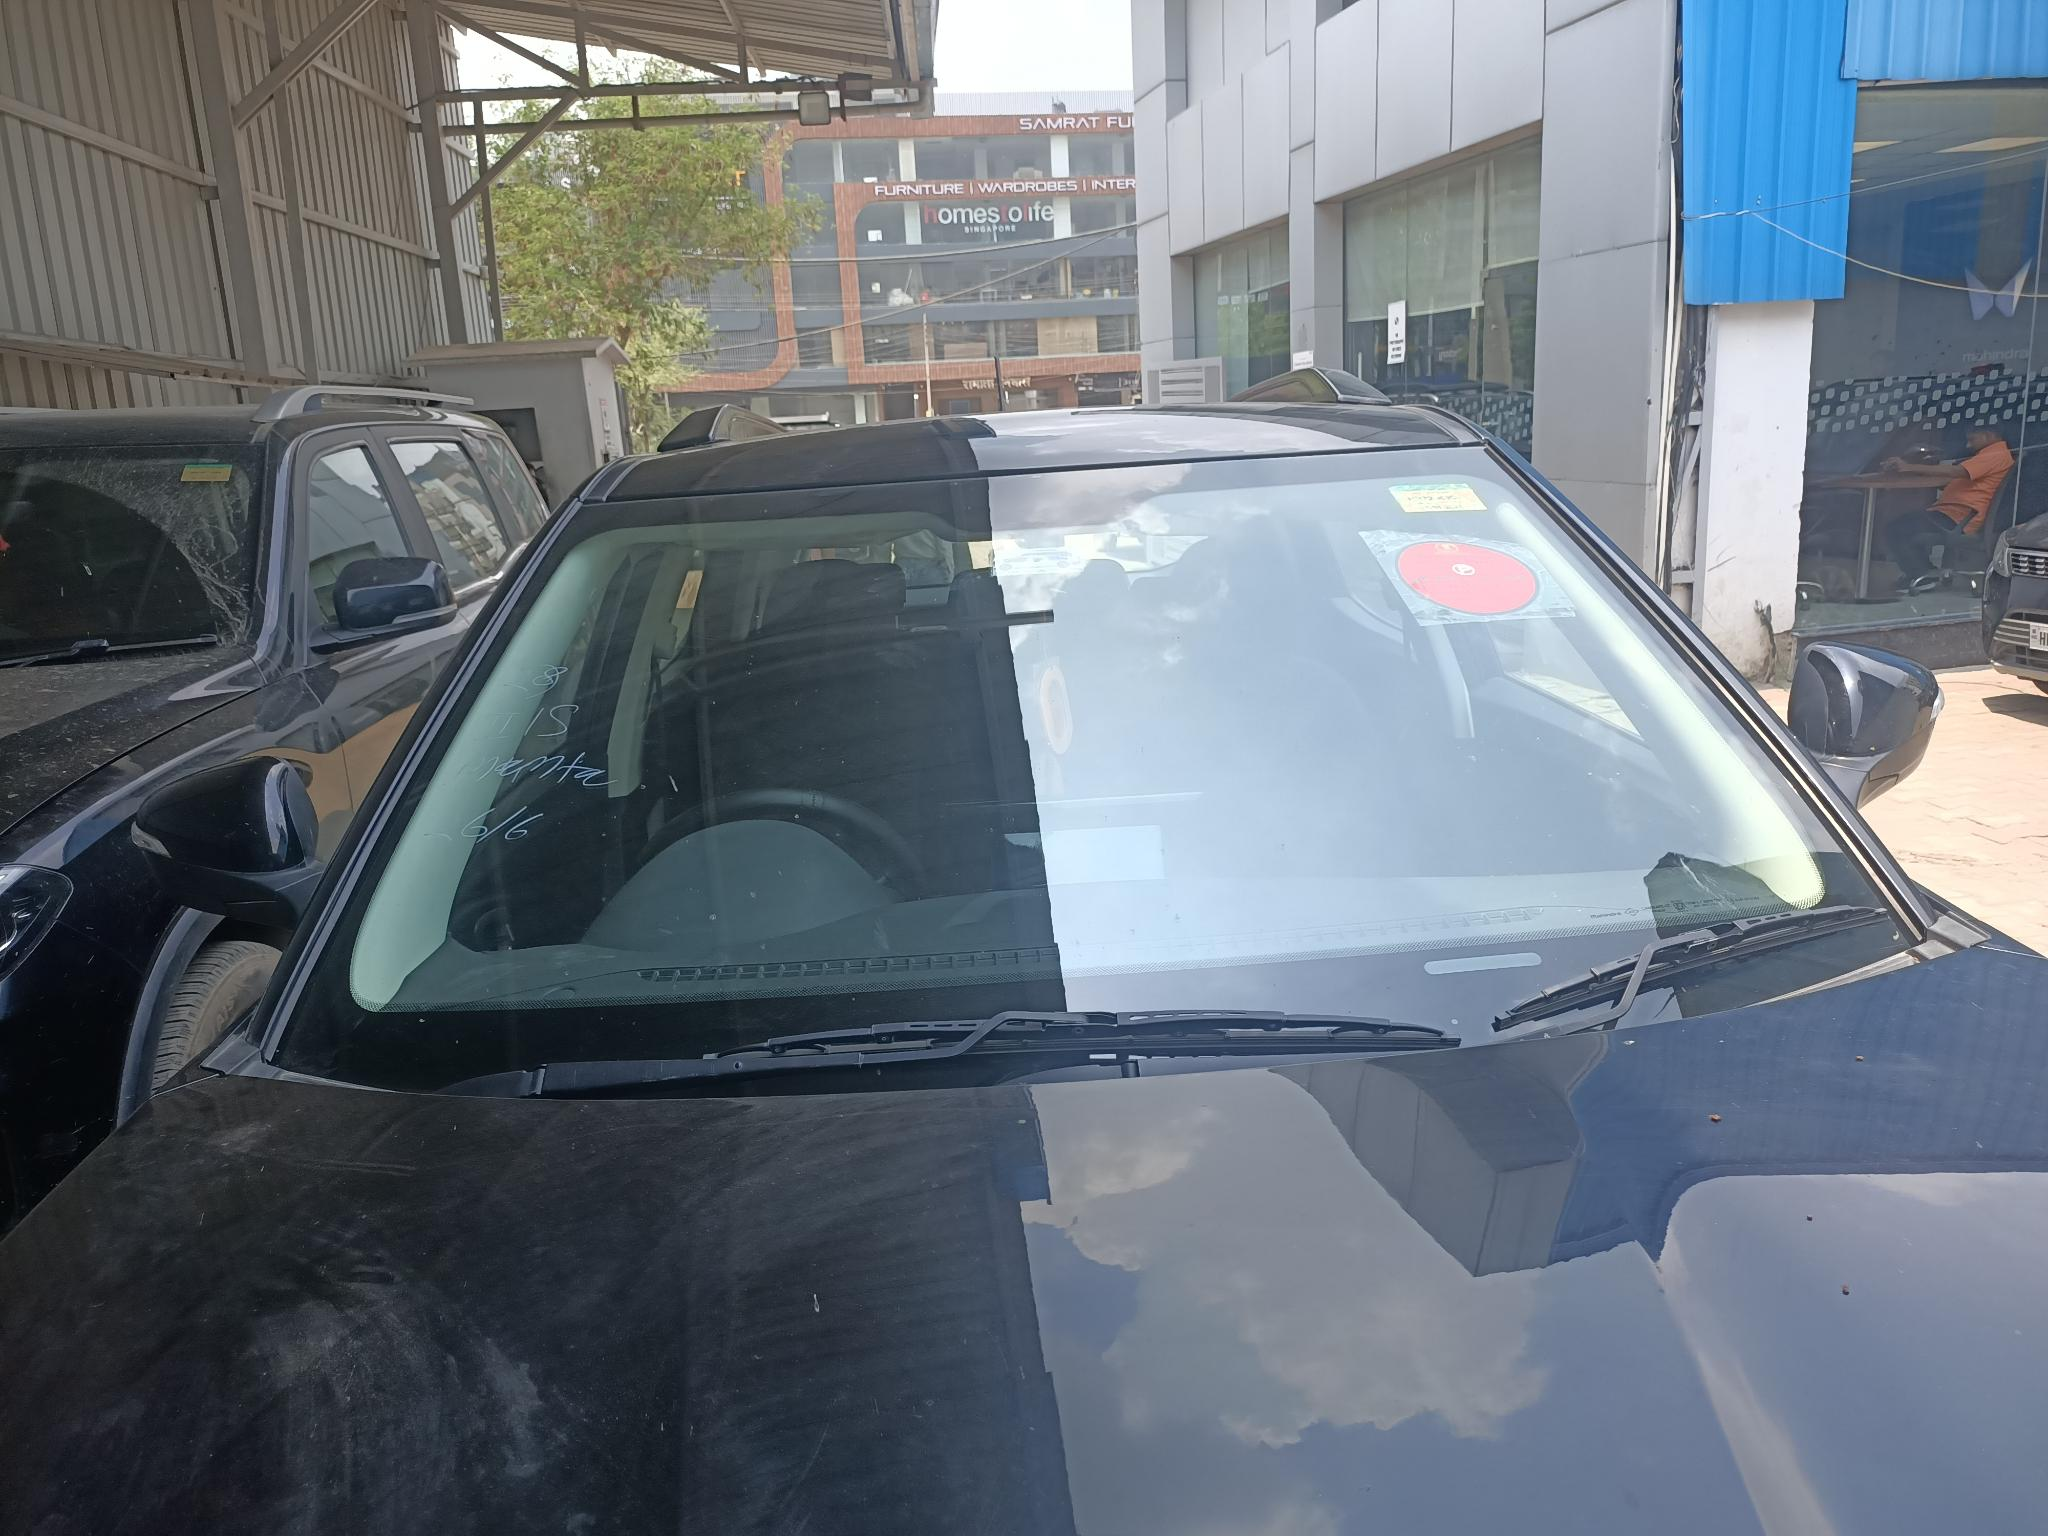not a FastTag: (1355, 521, 1559, 639), (1355, 465, 1492, 516)
